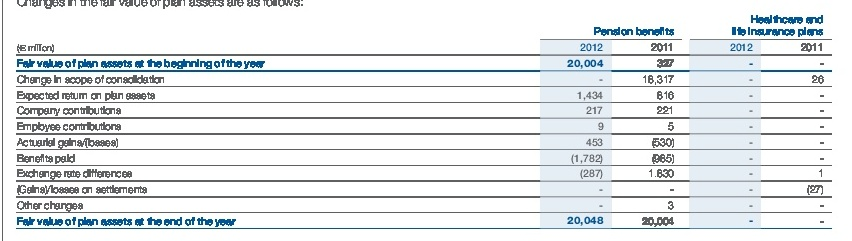table: (0, 0, 852, 241)
